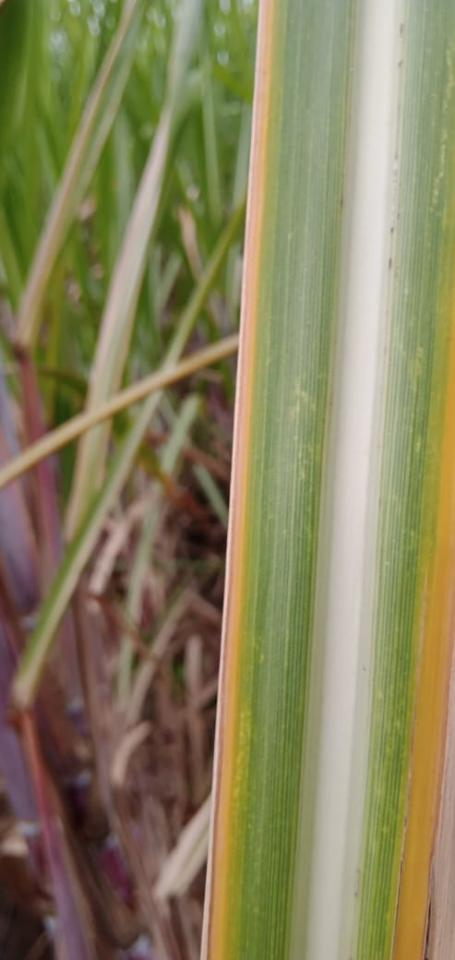Rust: (399, 22, 406, 40), (386, 257, 394, 272), (388, 227, 396, 236), (398, 58, 404, 69)
Yellow: (200, 0, 276, 959), (392, 307, 454, 959)
